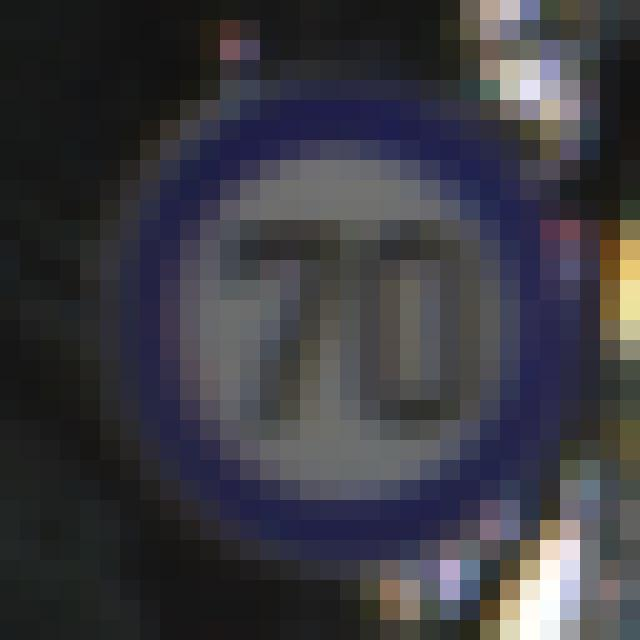SPEED LIMIT 70: (110, 99, 574, 546)
